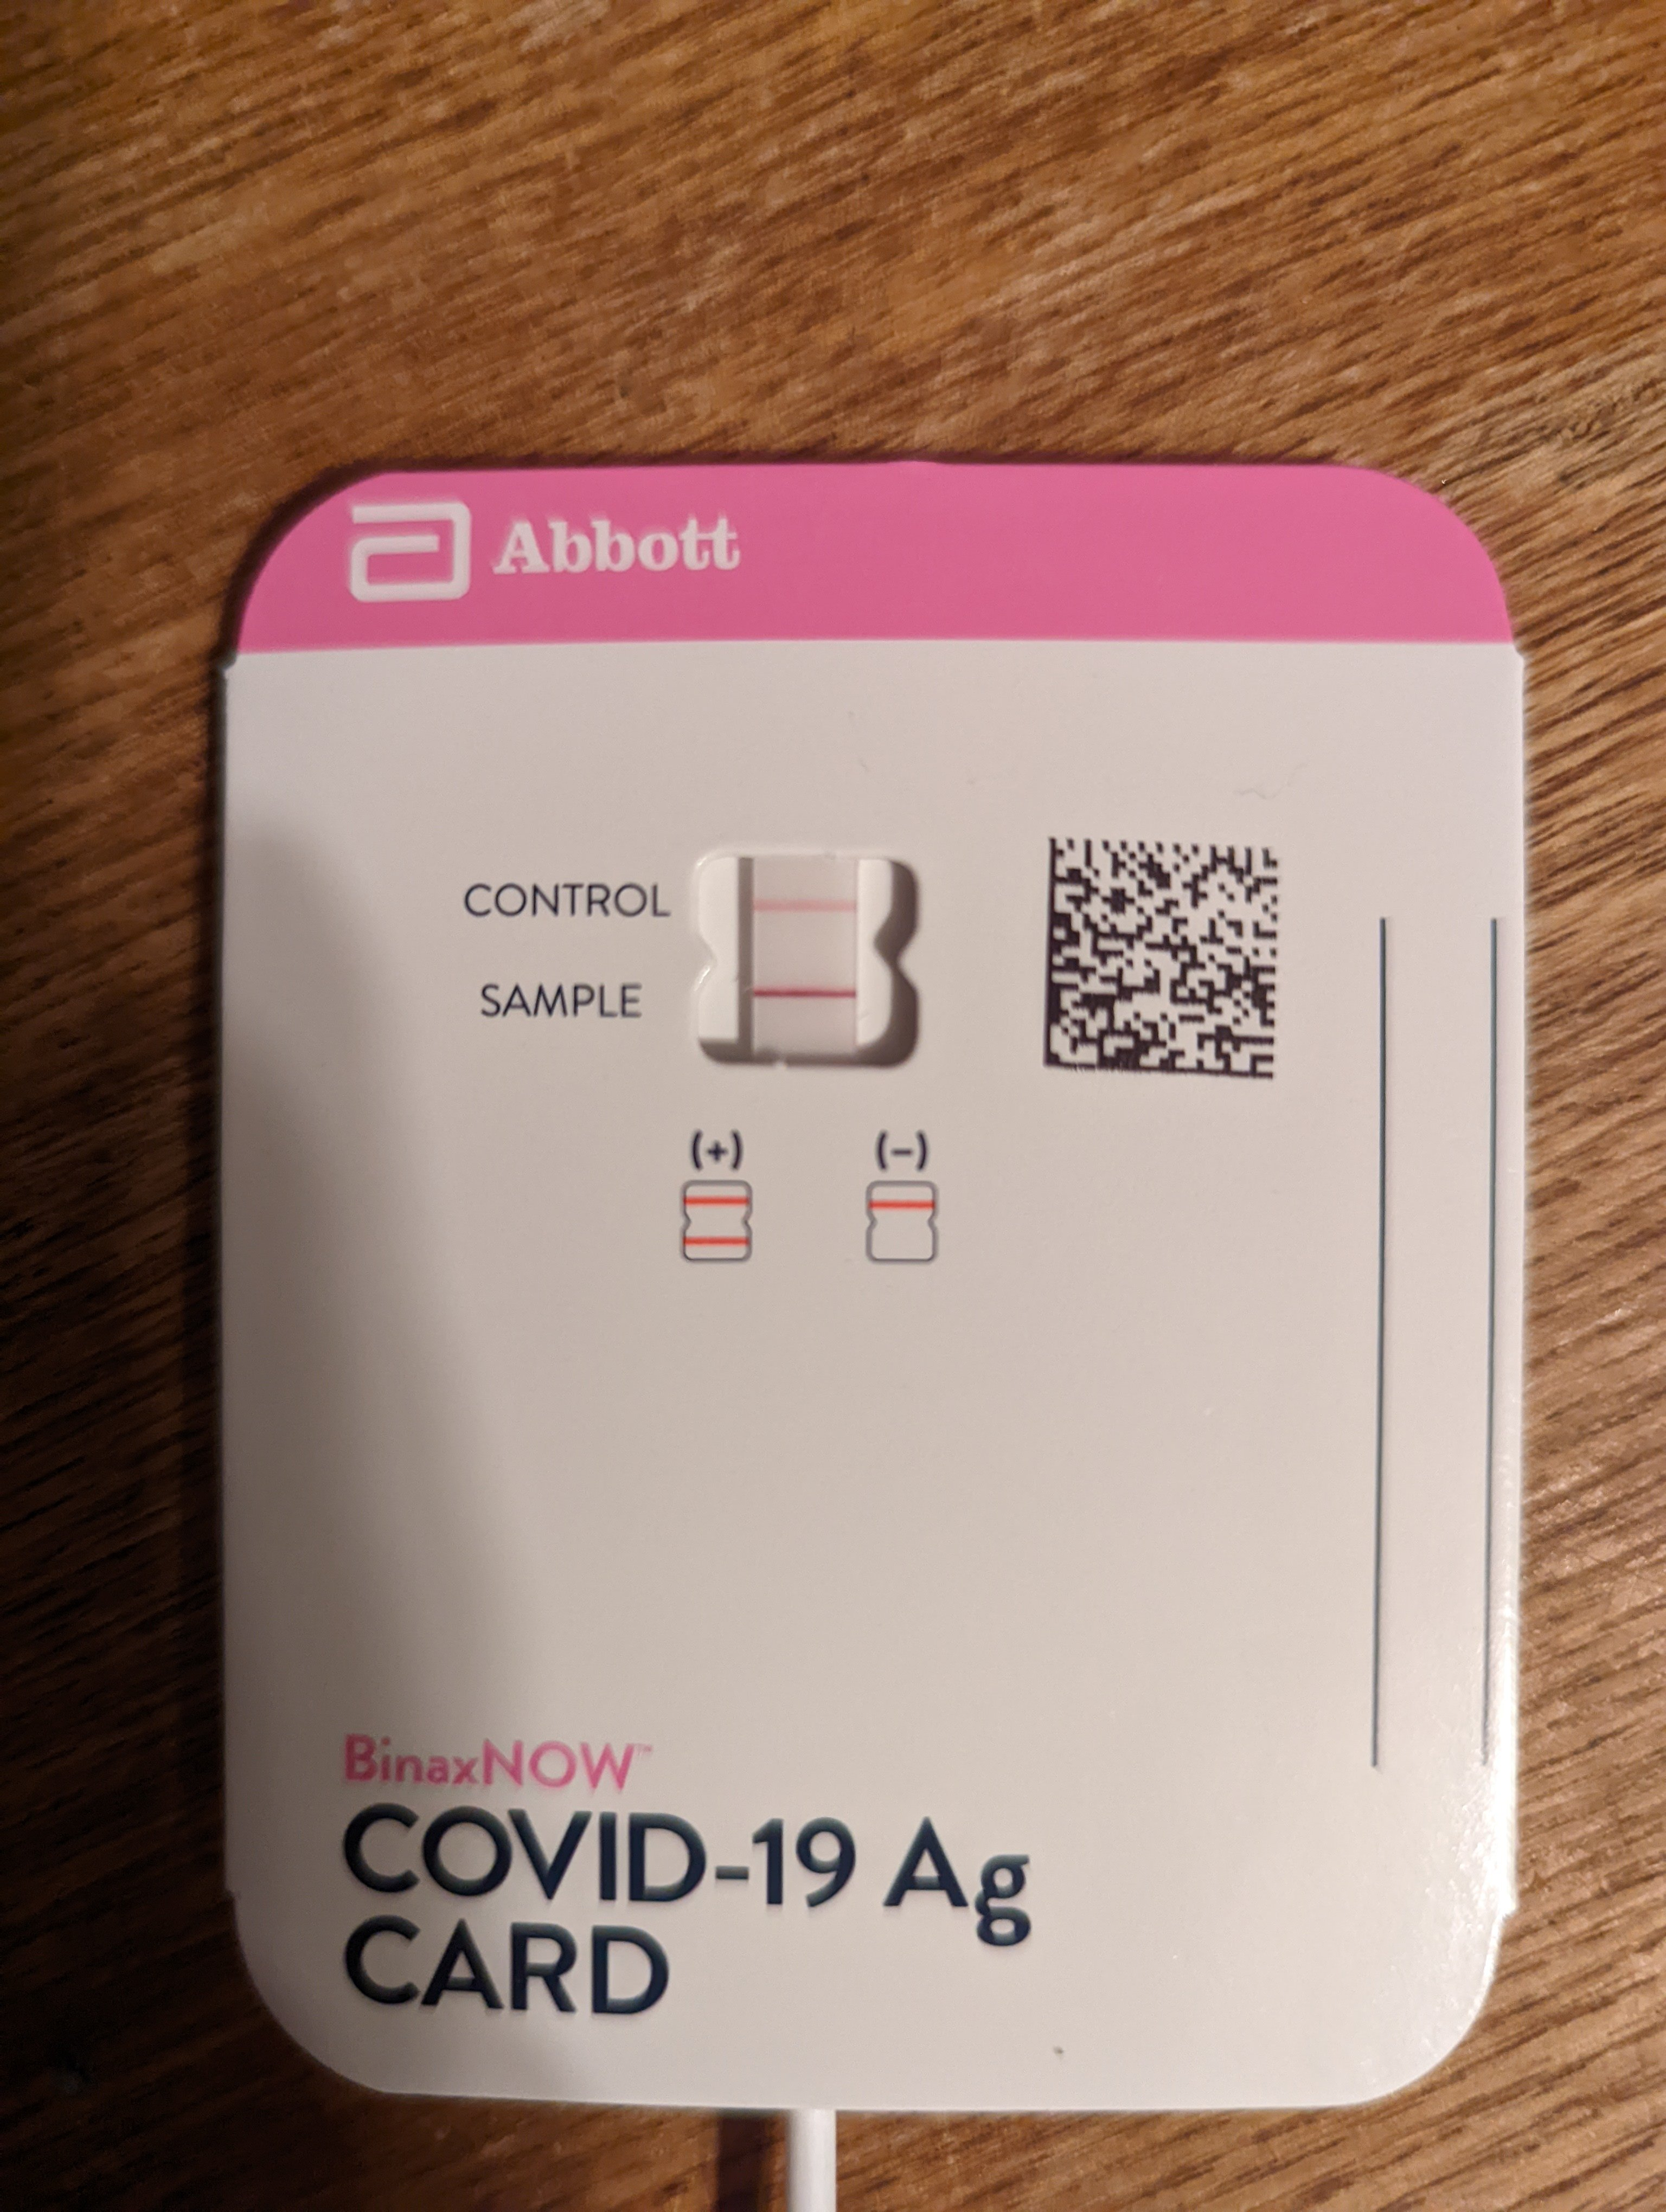positive: (721, 846, 889, 1072)
